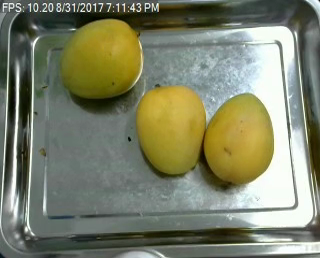Mango: (57, 18, 148, 102), (203, 91, 275, 184), (137, 82, 205, 176)
